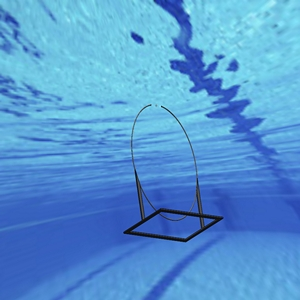circle: (121, 102, 225, 242)
